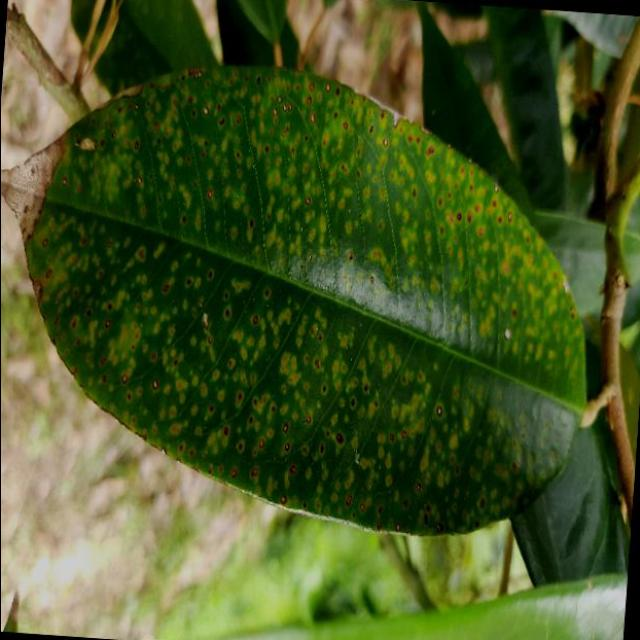Leaf Spot: (0, 41, 618, 549)
